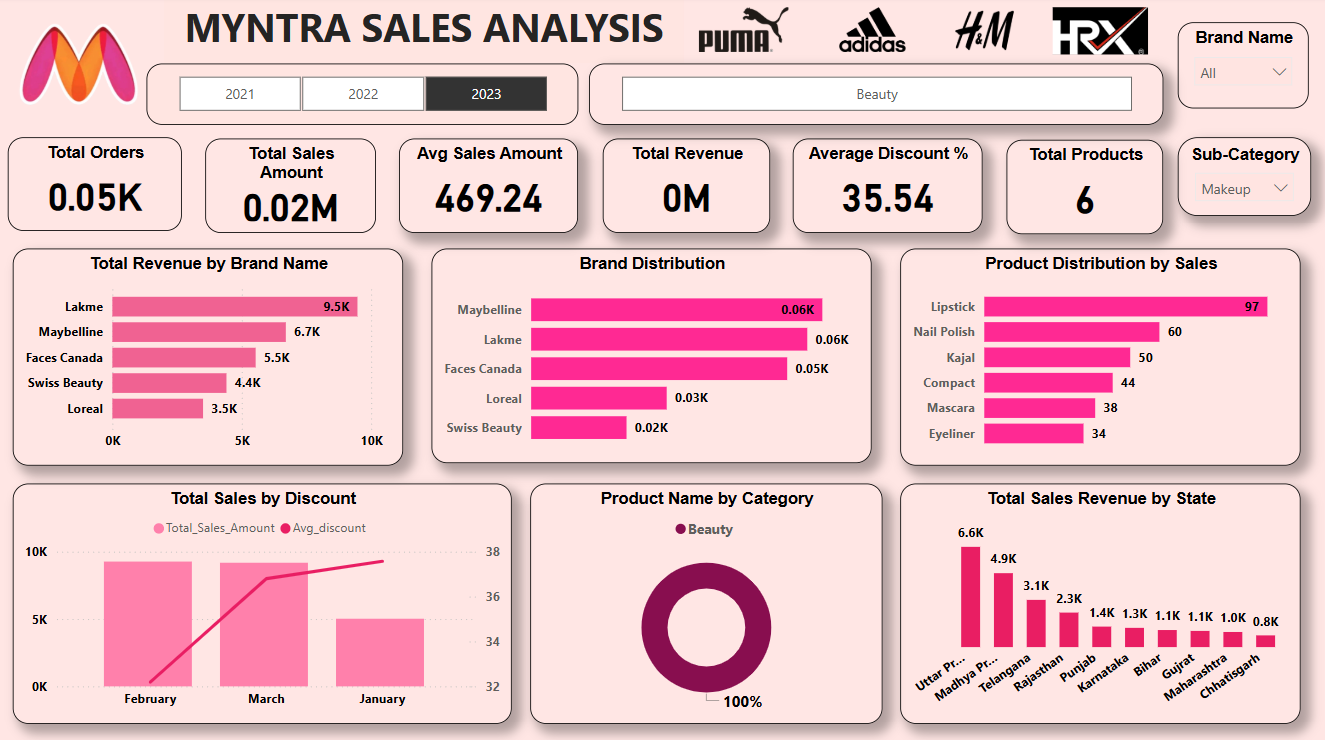

This screenshot's page, from the dashboard's own definition file:
{"tool":"powerbi","page":{"name":"Overview","canvas":[1280,720],"ordinal":1},"visuals":[{"type":"textbox","box":[159.5,0,501.8,65],"z":0},{"type":"slicer","fields":{"Values":["DateTable.Year"]},"box":[142.3,65.1,416.4,59.1],"z":1000},{"type":"slicer","title":"Brand Name ","fields":{"Values":["dim_products.Brand Name"]},"box":[1137.4,25.8,126.4,83.4],"z":2000},{"type":"slicer","title":"Sub-Category","fields":{"Values":["dim_products.Sub-category"]},"box":[1137.2,136.3,128.7,75.7],"z":3000},{"type":"card","title":"Total Orders","fields":{"Values":["'Measures'.Total_Orders"]},"box":[8.6,136.2,168.1,90.8],"z":4000},{"type":"card","title":"Total Sales Amount","fields":{"Values":["'Measures'.Total_Sales_Amount"]},"box":[199.3,137.1,164.5,90.9],"z":5000},{"type":"card","title":"Avg Sales Amount","fields":{"Values":["'Measures'.Avg_Sales_Amount"]},"box":[386.5,137.1,173.1,90.9],"z":6000},{"type":"card","title":"Total Revenue","fields":{"Values":["'Measures'.Revenue"]},"box":[582.3,137.1,161.6,90.9],"z":7000},{"type":"card","title":"Average Discount %","fields":{"Values":["'Measures'.Avg_discount"]},"box":[766.5,137.1,183.2,90.9],"z":8000},{"type":"card","title":"Total Products","fields":{"Values":["Count(dim_products.Product Name)"]},"box":[972.4,138.5,151.5,90.9],"z":9000},{"type":"donutChart","title":"Product Name by Category","fields":{"Y":["CountNonNull(dim_products.Product Name)"],"Category":["dim_products.Category"]},"box":[512.3,469.9,339.9,231.9],"z":10000},{"type":"barChart","title":"Total Revenue by Brand Name","fields":{"Y":["'Measures'.Revenue"],"Category":["dim_products.Brand Name"]},"box":[13.5,244.2,376.7,209.8],"z":11000},{"type":"clusteredBarChart","title":"Brand Distribution","fields":{"Category":["dim_products.Brand Name"],"Y":["CountNonNull(dim_products.Brand Name)"]},"box":[417.8,244.2,424.5,207.4],"z":12000},{"type":"lineClusteredColumnComboChart","title":"Total Sales by Discount","fields":{"Category":["DateTable.Month_Name"],"Y":["'Measures'.Total_Sales_Amount"],"Y2":["'Measures'.Avg_discount"]},"box":[13.3,470.5,481.4,231.6],"z":13000},{"type":"clusteredColumnChart","title":"Total Sales Revenue by State","fields":{"Category":["dim_customers.State"],"Y":["'Measures'.Total_Sales_Amount"]},"box":[869.9,469.9,386.5,231.9],"z":14000},{"type":"slicer","fields":{"Values":["dim_products.Category"]},"box":[569,65,554,59],"z":15000},{"type":"clusteredBarChart","title":"Product Distribution by Sales ","fields":{"Category":["dim_products.Product Name"],"Y":["CountNonNull(dim_products.Product Name)"]},"box":[869.9,244.2,386.5,209.8],"z":16000},{"type":"image","box":[894,7,115,52],"z":17000},{"type":"image","box":[785,6,115,53],"z":18000},{"type":"image","box":[663,6,111,53],"z":19000},{"type":"image","box":[1010,6,106,55],"z":20000},{"type":"image","box":[13.6,15.1,128.7,103],"z":21000}]}

Visuals, with their boxes in screenshot pixels (x1, y1, x2, y2), scaled from the page's 1280x720 canvas onto the 1325x740 screenshot:
textbox: box(165, 0, 685, 67)
slicer - DateTable.Year: box(147, 67, 578, 128)
"Brand Name " slicer: box(1177, 27, 1308, 112)
"Sub-Category" slicer: box(1177, 140, 1310, 218)
"Total Orders" card: box(9, 140, 183, 233)
"Total Sales Amount" card: box(206, 141, 377, 234)
"Avg Sales Amount" card: box(400, 141, 579, 234)
"Total Revenue" card: box(603, 141, 770, 234)
"Average Discount %" card: box(793, 141, 983, 234)
"Total Products" card: box(1007, 142, 1163, 236)
"Product Name by Category" donutChart: box(530, 483, 882, 721)
"Total Revenue by Brand Name" barChart: box(14, 251, 404, 467)
"Brand Distribution" clusteredBarChart: box(432, 251, 872, 464)
"Total Sales by Discount" lineClusteredColumnComboChart: box(14, 484, 512, 722)
"Total Sales Revenue by State" clusteredColumnChart: box(900, 483, 1301, 721)
slicer - dim_products.Category: box(589, 67, 1162, 127)
"Product Distribution by Sales " clusteredBarChart: box(900, 251, 1301, 467)
image: box(925, 7, 1044, 61)
image: box(813, 6, 932, 61)
image: box(686, 6, 801, 61)
image: box(1046, 6, 1155, 63)
image: box(14, 16, 147, 121)
